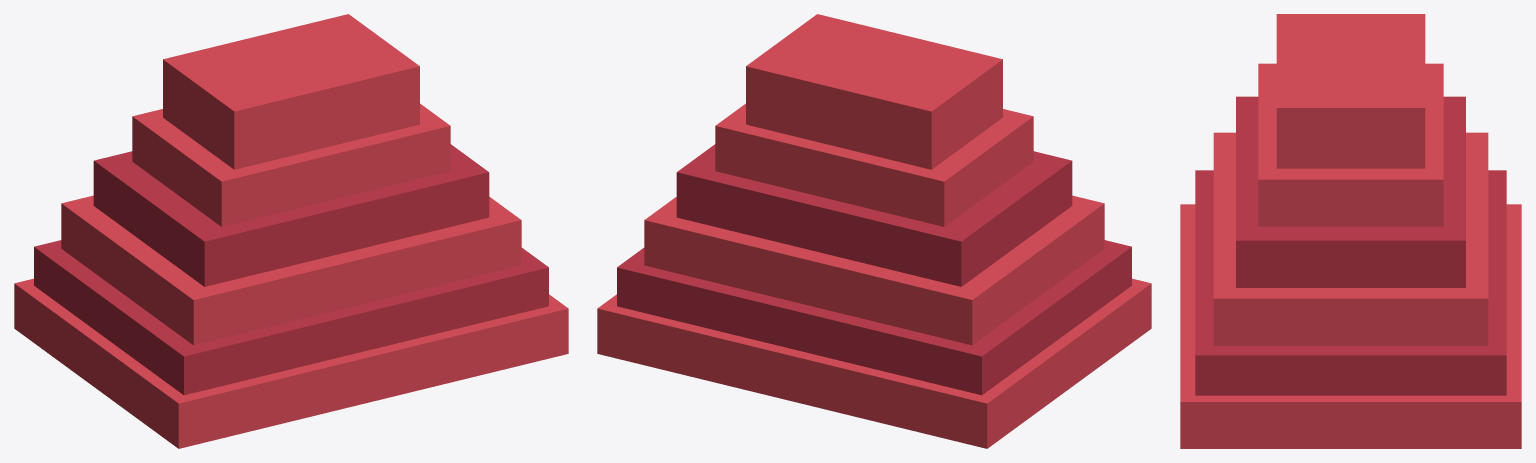
File: flamenco_saia.glb
3 renders of one model, left to right at view 1: azimuth 30°, elevation 25°; view 2: azimuth 150°, elevation 25°; view 3: azimuth 270°, elevation 25°, orthographic. The views are drawn at different scales.
Visible parts, largest first — view 1: flamenco_saia; view 2: flamenco_saia; view 3: flamenco_saia.
Part boxes in pixels (x1,y1,x2,y2): flamenco_saia: [14, 14, 568, 448]; flamenco_saia: [597, 14, 1151, 448]; flamenco_saia: [1180, 14, 1521, 448].
Size of the model in its own units: 1.26 by 0.86 by 0.92.
